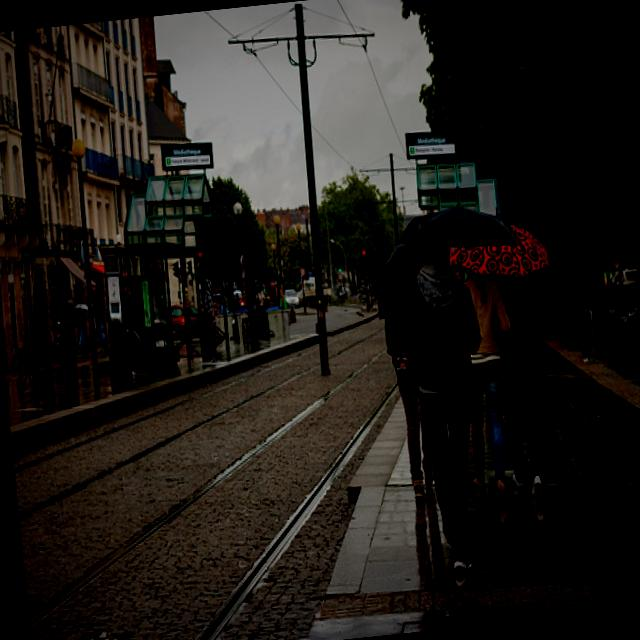Vehicle: (604, 279, 640, 331), (522, 282, 560, 326), (170, 300, 200, 342), (604, 267, 639, 298), (282, 288, 300, 308)
